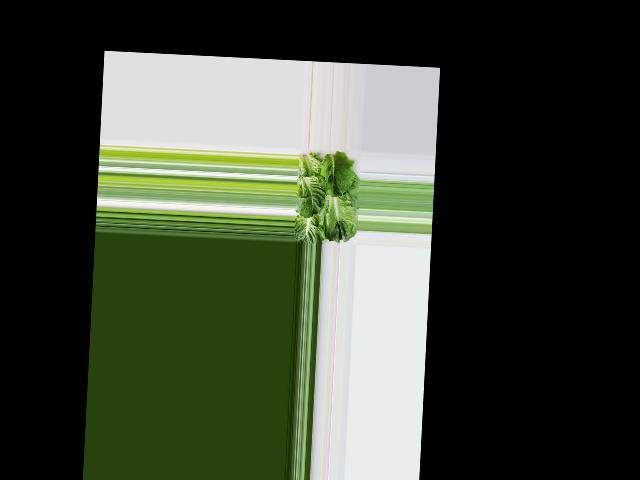lettuce: (293, 151, 359, 243)
